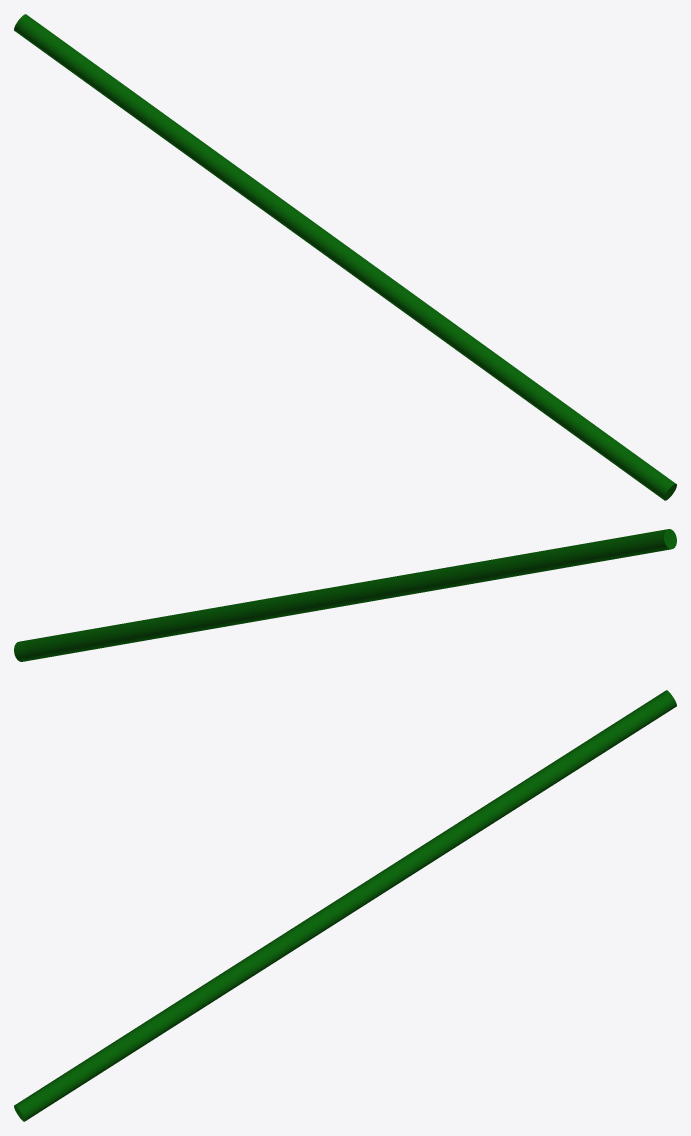
The model's file is Event_421556567_jet_0.fbx.
3 renders of one model, top to bottom at view 1: azimuth 30°, elevation 25°; view 2: azimuth 210°, elevation 25°; view 3: azimuth 270°, elevation 25°, orthographic. The views are drawn at different scales.
Parts seen in each view (by area): view 1: Model; view 2: Model; view 3: Model.
Part boxes in pixels (x1=…): Model: x1=14, y1=14, x2=676, y2=500; Model: x1=14, y1=529, x2=676, y2=661; Model: x1=14, y1=690, x2=676, y2=1121.
Size of the model in its own units: 0.7211 by 0.6624 by 1.37.
